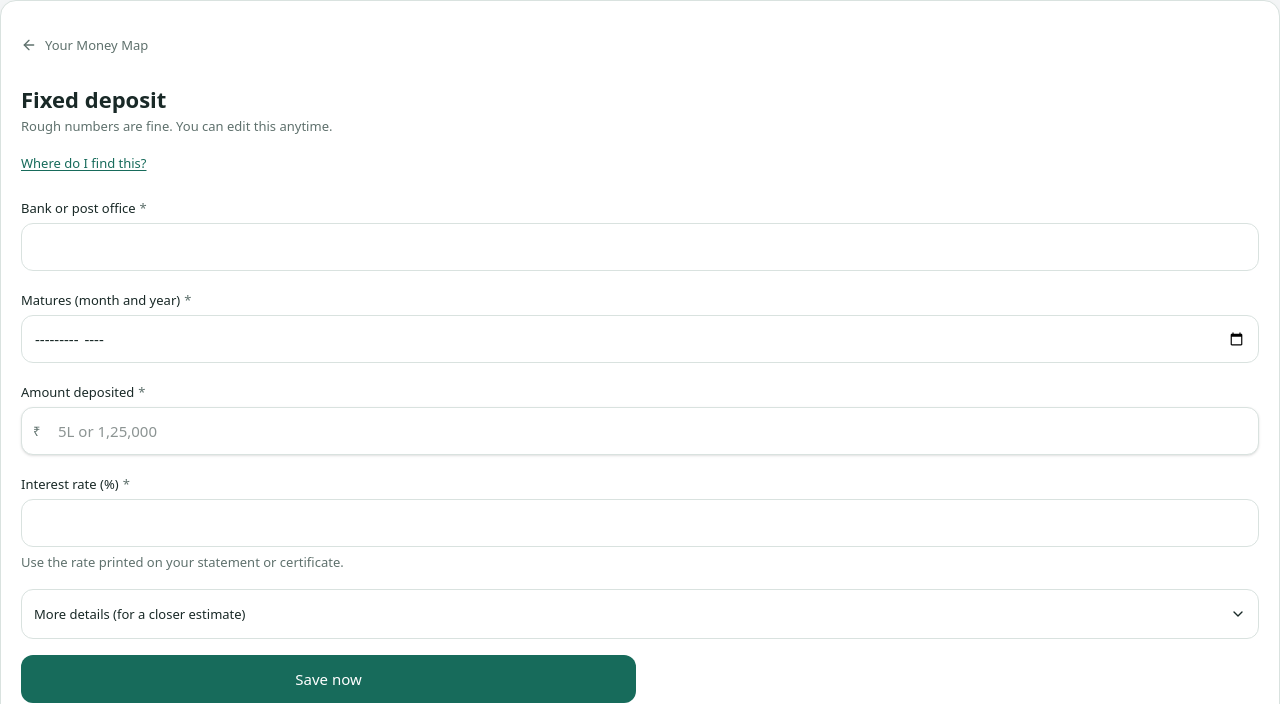
Test: asset forms and autosave › maps a 422 field error to the matching field
The image size is (1280, 704).
Type "Demo Bank" into the field labelled "Bank or post office*" at (640, 247), box [21,223,1259,271]
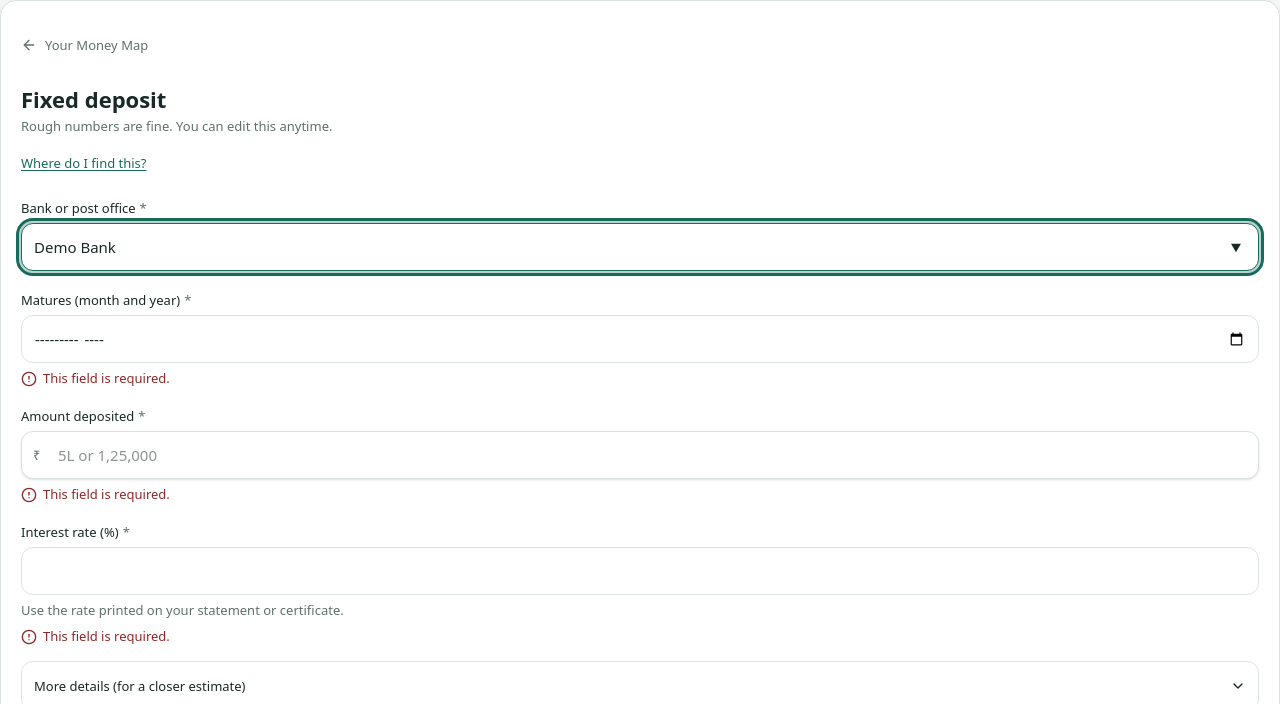
Type "5L" into the field labelled "Amount deposited*" at (640, 455), box [21,431,1259,479]
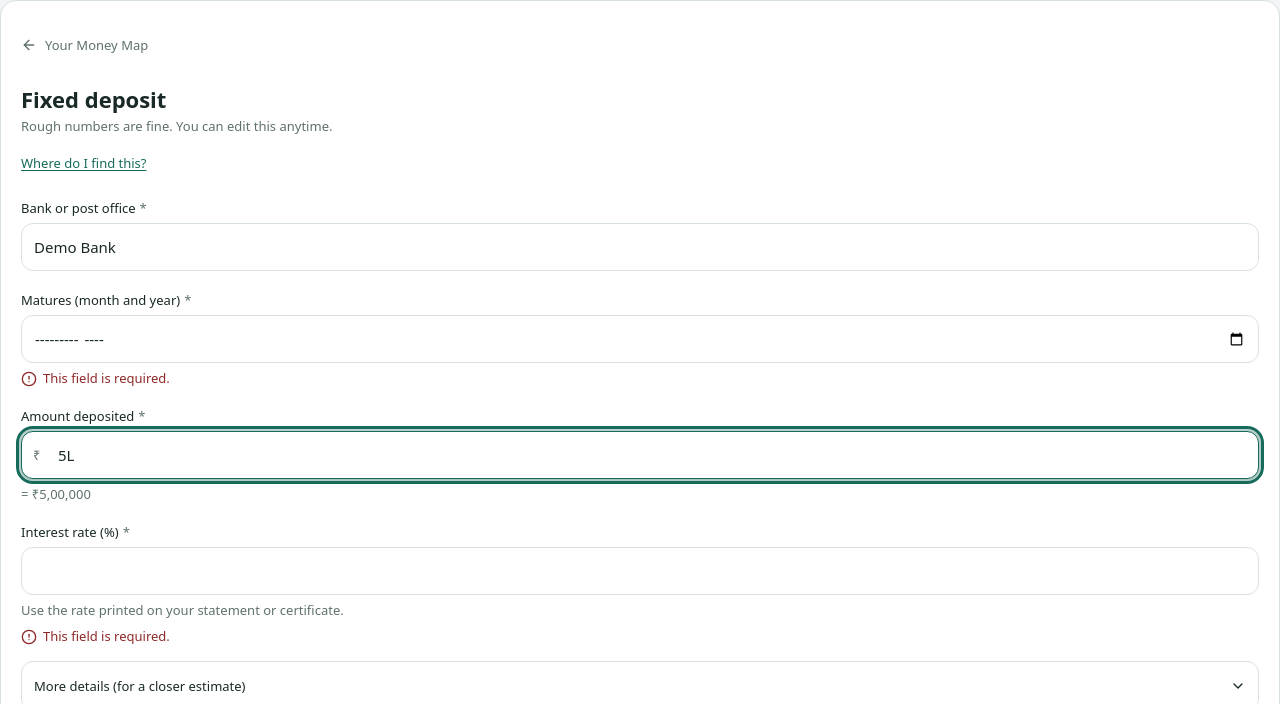
Type "7.10" into the field labelled "Interest rate (%)*" at (640, 571), box [21,547,1259,595]
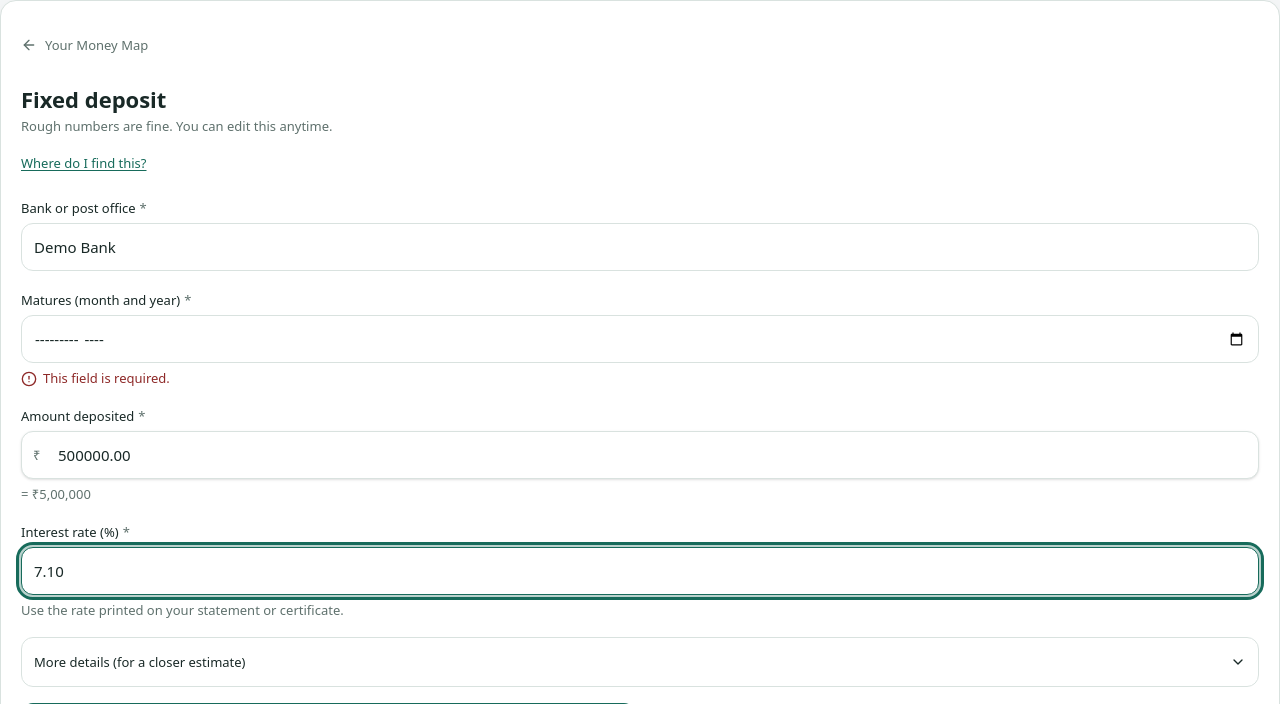
Type "2027-03" into the field labelled "Matures (month and year)*" at (640, 339), box [21,315,1259,363]
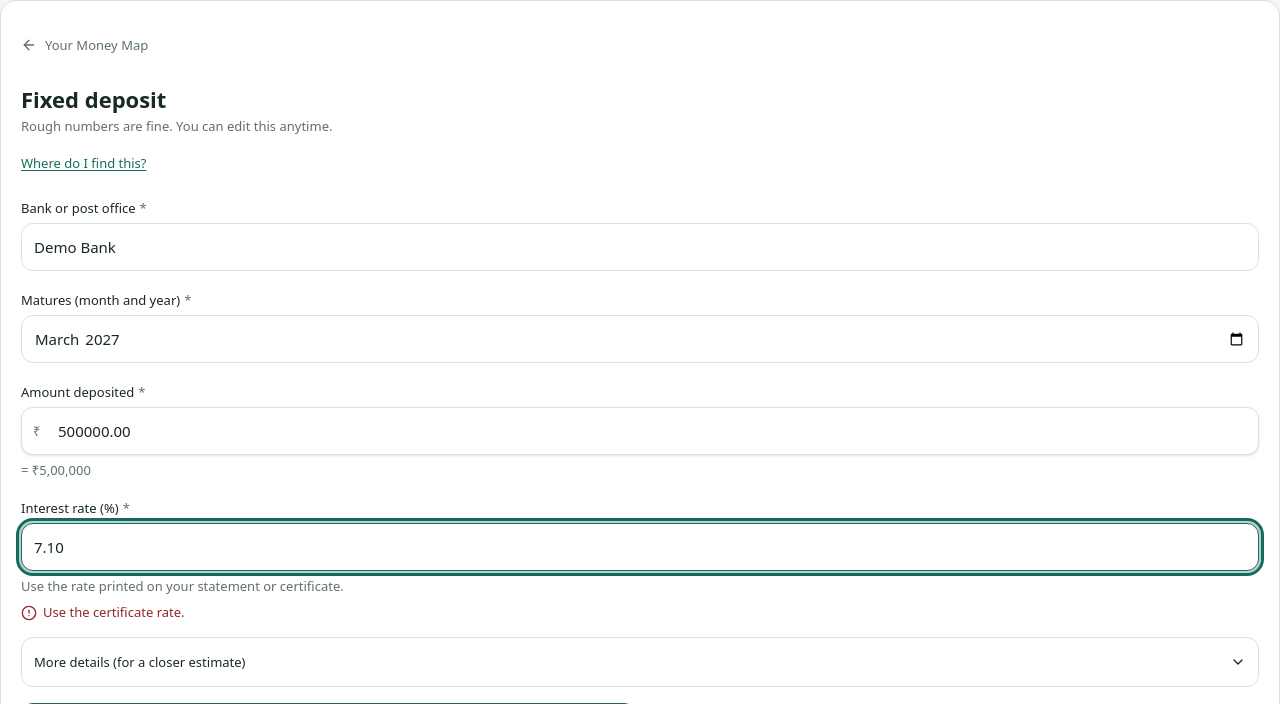
Expected: the text "Use the certificate rate." is shown, [21,603,184,621]
